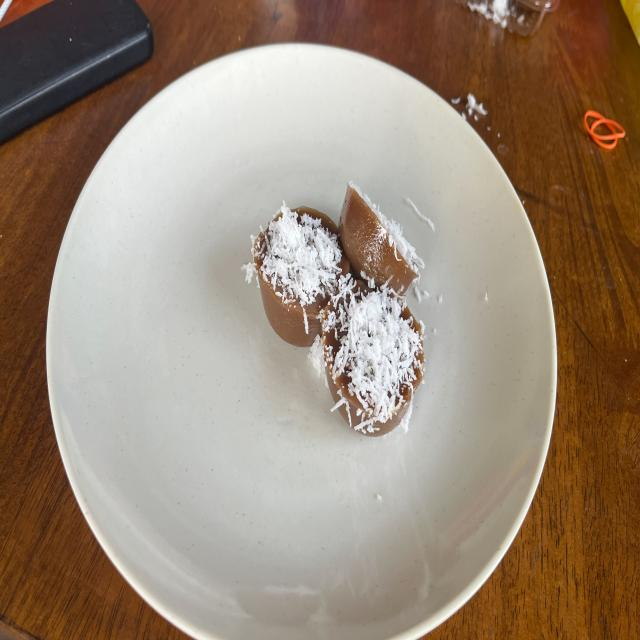Kuih lompang: (321, 278, 424, 436), (250, 204, 350, 347), (339, 182, 424, 296)
